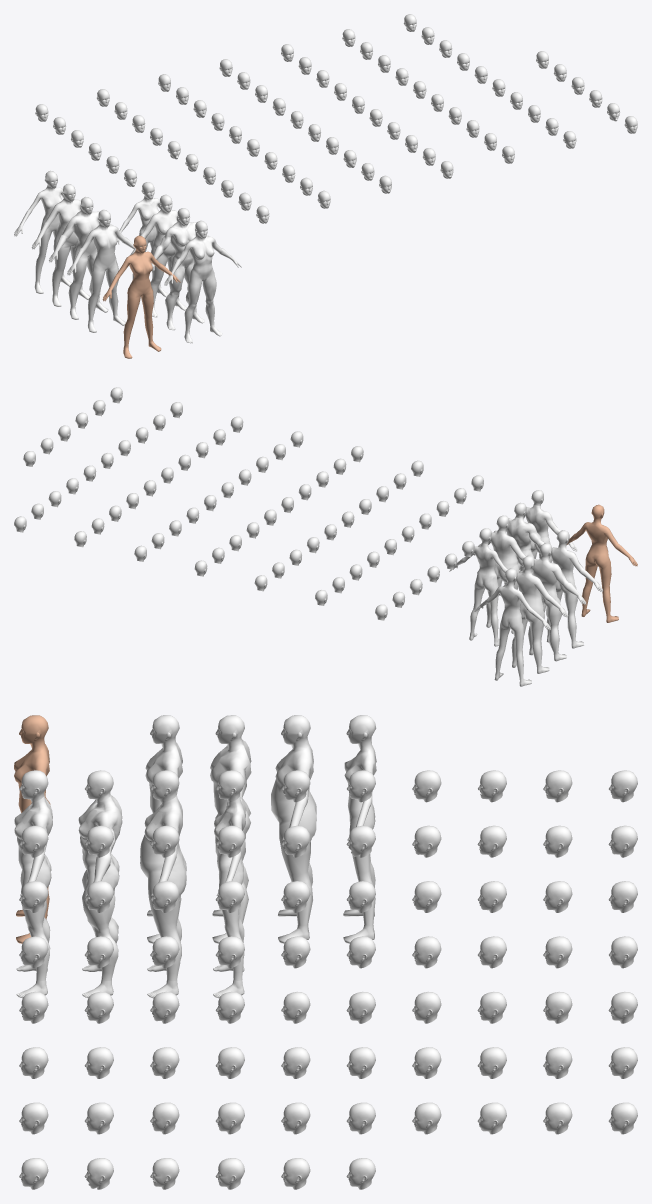
File: woman_morph.glb
The picture shows the model from 3 angles, top to bottom: view 1: azimuth 30°, elevation 25°; view 2: azimuth 150°, elevation 25°; view 3: azimuth 270°, elevation 25°; orthographic projection. The views are drawn at different scales.
Parts seen in each view (by area): view 1: body_low__M__CC, body_low__M__MUSCLE, body__M__MUSCLE, body_low__M__MONSTER, body_low__M__BIG, body__M__MONSTER, body_low__M__LOW, body__M__BIG, body__M__LOW; view 2: body_low__M__CC, body_low__M__LOW, body_low__M__BIG, body_low__M__MONSTER, body_low__M__MUSCLE, body__M__LOW, body__M__BIG, body__M__MONSTER, body__M__MUSCLE; view 3: body_low__M__BIG, body__M__BIG, body__M__MONSTER, body_low__M__LOW, body_low__M__MONSTER, body__M__MUSCLE, body__M__LOW, body_low__M__CC, body_low__M__MUSCLE, Head__M__BIG, Head__M__BrowUp, Head__M__vSH (+73 smaller).
Part boxes in pixels (x1,y1,x2,y2): body_low__M__CC: (102, 235, 180, 358); body_low__M__MUSCLE: (67, 209, 135, 332); body__M__MUSCLE: (164, 235, 241, 330); body_low__M__MONSTER: (49, 196, 112, 319); body_low__M__BIG: (31, 183, 90, 306); body__M__MONSTER: (151, 221, 209, 317); body_low__M__LOW: (14, 170, 71, 293); body__M__BIG: (130, 208, 179, 304); body__M__LOW: (116, 196, 161, 285); body_low__M__CC: (566, 504, 637, 622); body_low__M__LOW: (474, 568, 550, 686); body_low__M__BIG: (498, 555, 568, 673); body_low__M__MONSTER: (516, 543, 586, 661); body_low__M__MUSCLE: (539, 530, 602, 648); body__M__LOW: (449, 543, 507, 638); body__M__BIG: (473, 530, 525, 620); body__M__MONSTER: (494, 517, 544, 606); body__M__MUSCLE: (523, 505, 577, 562); body_low__M__BIG: (271, 715, 316, 943); body__M__BIG: (140, 795, 186, 985); body__M__MONSTER: (78, 794, 122, 980); body_low__M__LOW: (343, 715, 376, 943); body_low__M__MONSTER: (210, 715, 251, 943); body__M__MUSCLE: (14, 795, 52, 980); body__M__LOW: (214, 796, 245, 980); body_low__M__CC: (14, 715, 50, 943); body_low__M__MUSCLE: (145, 715, 182, 943); Head__M__BIG: (150, 770, 179, 802); Head__M__BrowUp: (543, 1102, 572, 1134); Head__M__vSH: (19, 936, 48, 968).
Size of the model in its own units: 8.73 by 1.79 by 4.76.
